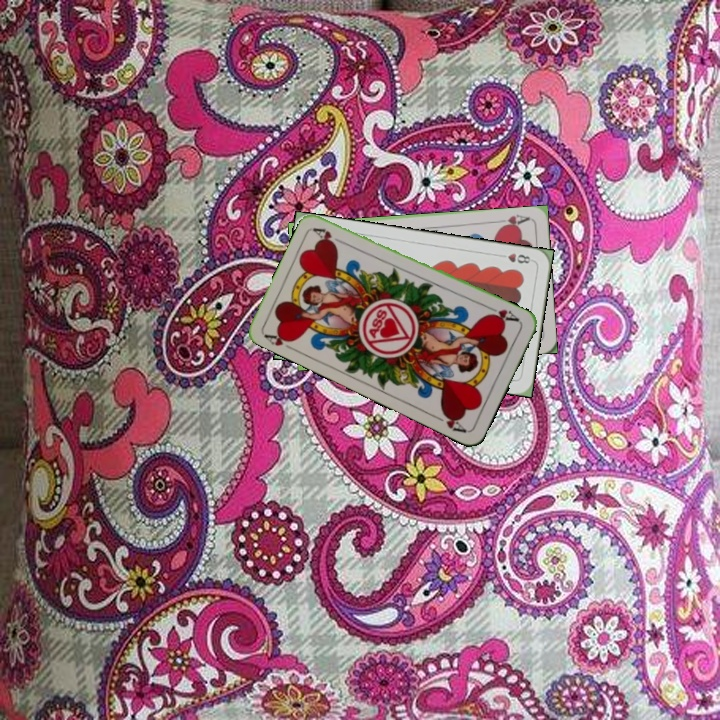H8: (495, 249, 535, 266)
HA: (260, 327, 299, 354), (483, 302, 522, 325), (492, 211, 532, 231)
